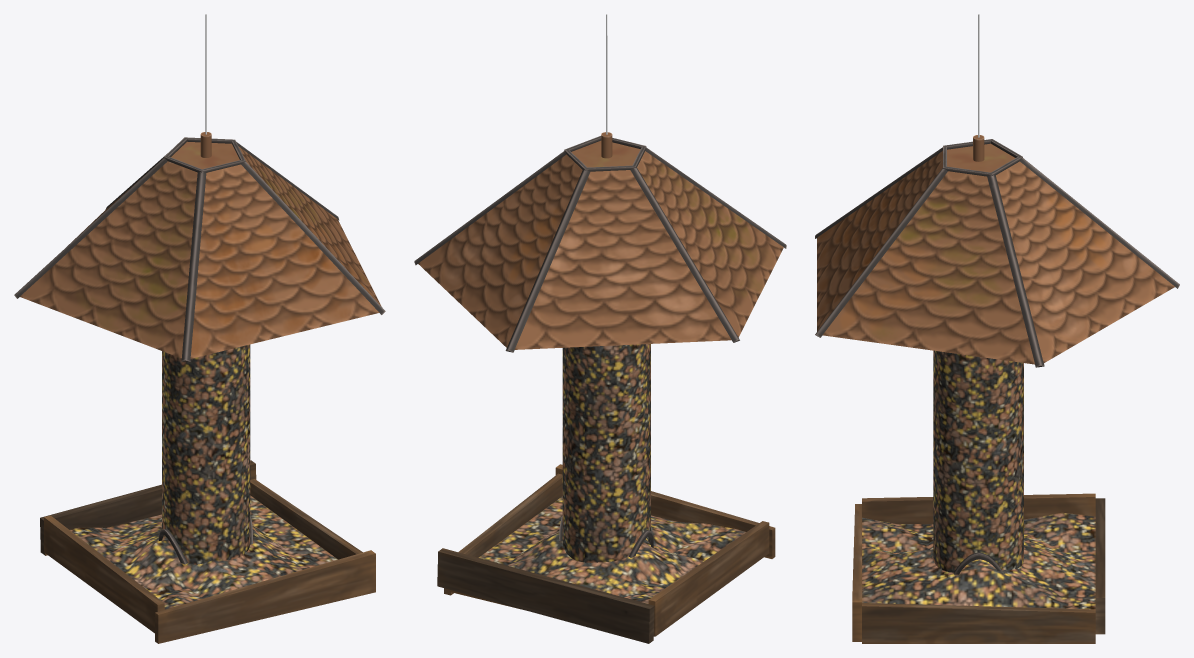
File: bird_feeder-scene-512.glb
3 renders of one model, left to right at view 1: azimuth 30°, elevation 25°; view 2: azimuth 150°, elevation 25°; view 3: azimuth 270°, elevation 25°, orthographic. The views are drawn at different scales.
Visible parts, largest first — view 1: Cylinder.004; view 2: Cylinder.004; view 3: Cylinder.004.
Boxes of the visible parts, x1,y1,x2,y2 form: Cylinder.004: (14, 14, 385, 643); Cylinder.004: (414, 14, 786, 643); Cylinder.004: (815, 14, 1179, 643).
Size of the model in its own units: 3.28 by 5.45 by 3.12.
Materials: 1 (1 with a texture image).
